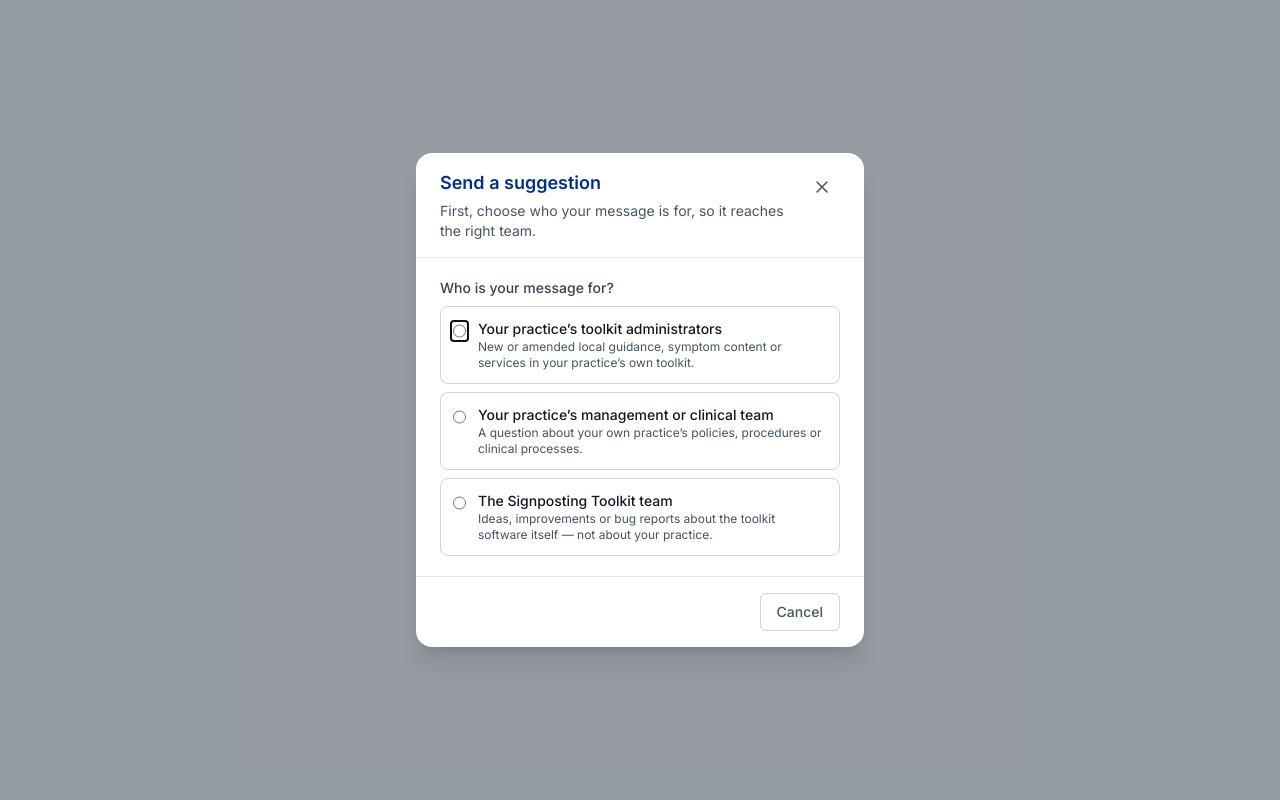
Test case: SuggestFeatureDialog › blocks submission and explains routing for practice policy questions
Click the radio button labelled "management or clinical team".
click(460, 417)  # box [453,409,466,425]
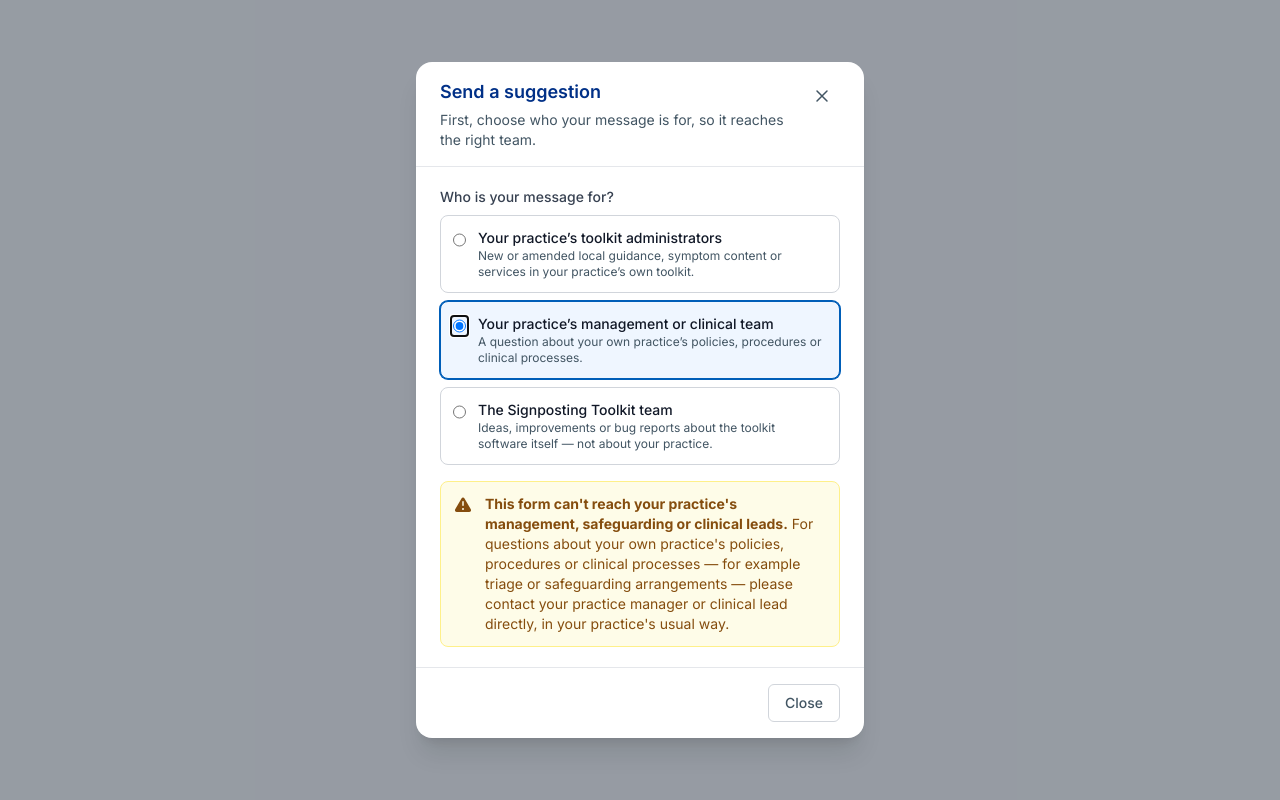
Now the text "can.t reach your practice.s management, safeguarding" is shown, box [485,495,788,532]
Now the text "contact your practice manager or clinical lead directly" is shown, box [485,515,813,632]
